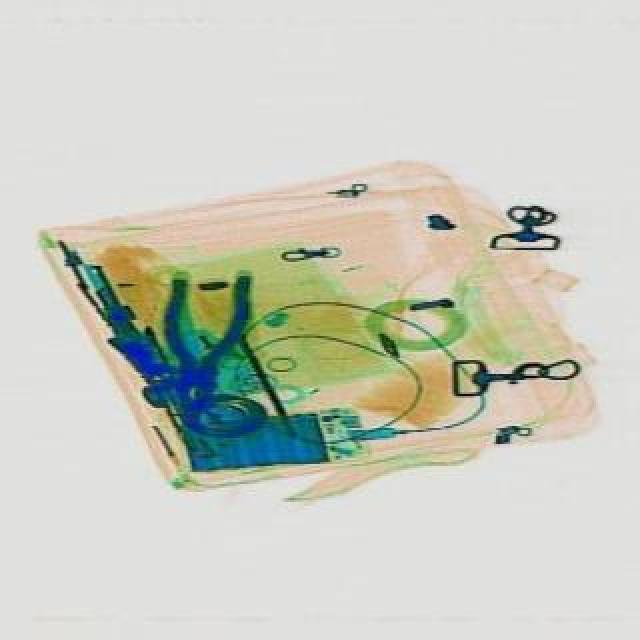wrench: (146, 264, 252, 428)
